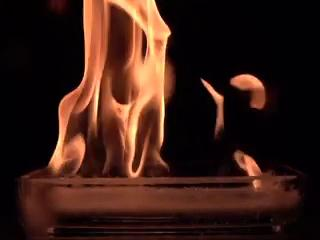Fire: (81, 1, 260, 178)
